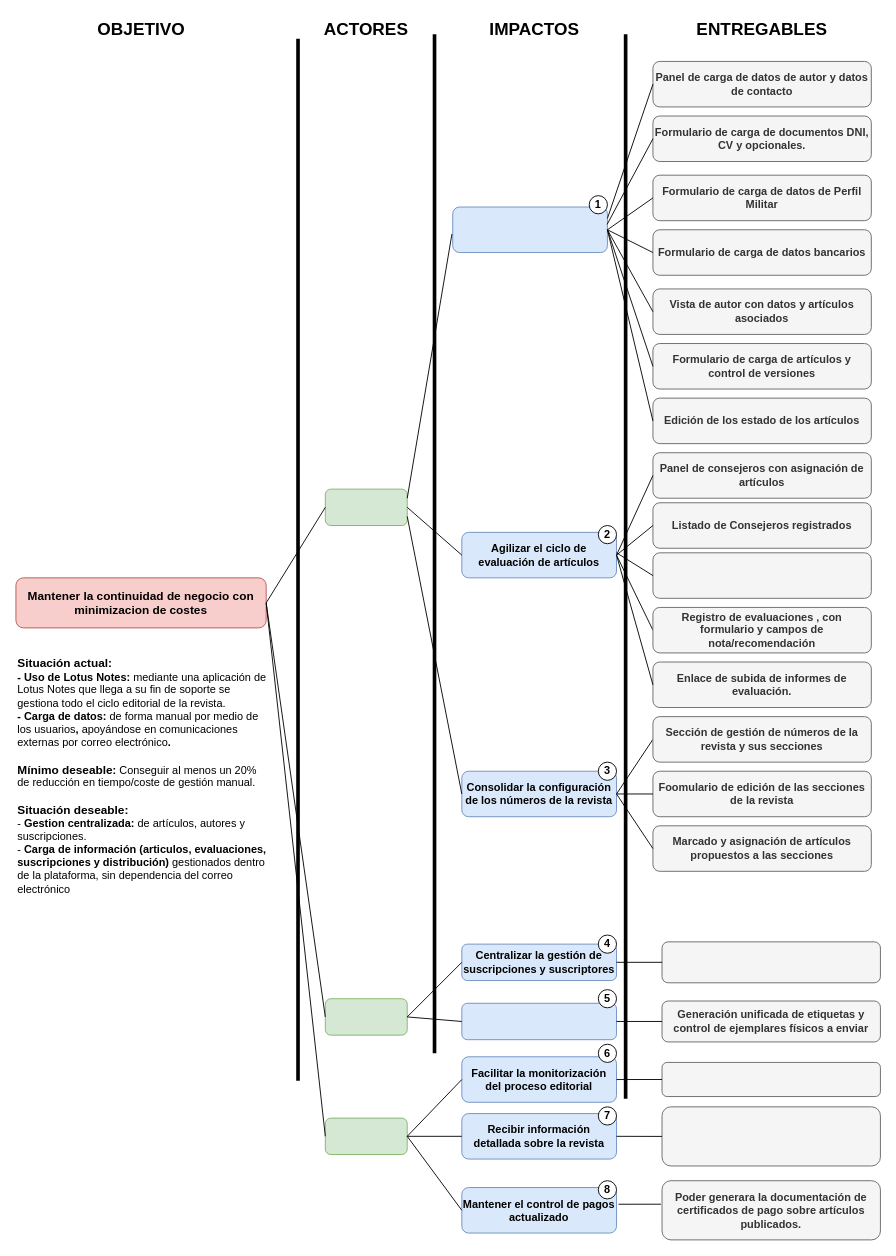
Some shapes in this 896 by 1256 pixel diagram are drawn without their labels. The shapes that lost their labels are listed below. From the top down, each one's centre as x and y in pixels, then its label:
(x=529, y=229): Reducir los pasos para registrar artículos, autores y su documentación asociada
(x=365, y=507): Redactor
(x=761, y=575): Alta, Baja y edición de Consejeros en el sistema
(x=770, y=962): Gestionar el ciclo de vida de las suscripciones
(x=365, y=1016): Distribuidor
(x=539, y=1021): Reducción de etapas para la distribución física
(x=770, y=1079): Controlar el progreso mediante estados de articulos y números de revista
(x=365, y=1136): Dirección
(x=770, y=1136): Obtener información según criterios de busqueda
